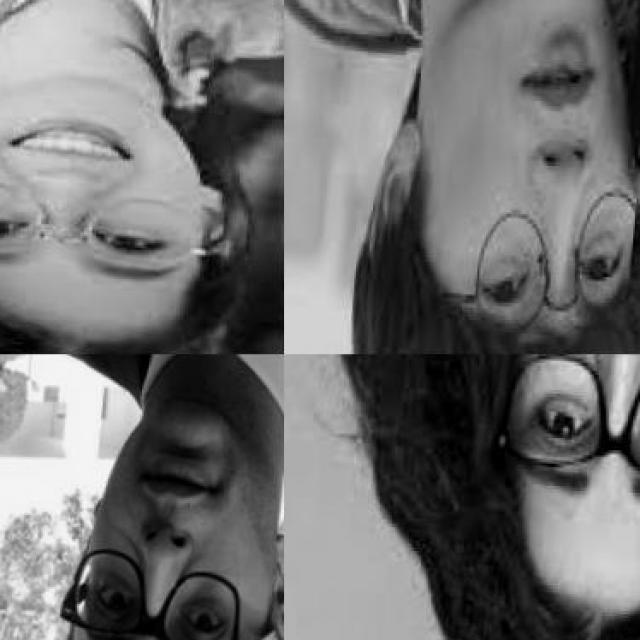Glasses: (452, 176, 640, 341), (0, 178, 238, 282), (484, 354, 640, 512), (51, 544, 282, 640)
